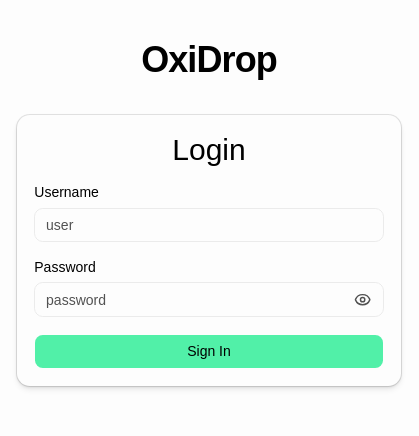
Test case: LoginForm › does not redirect when the new session cannot be verified
Type "admin" into the field labelled "Username" at (209, 225), box [34, 208, 384, 242]
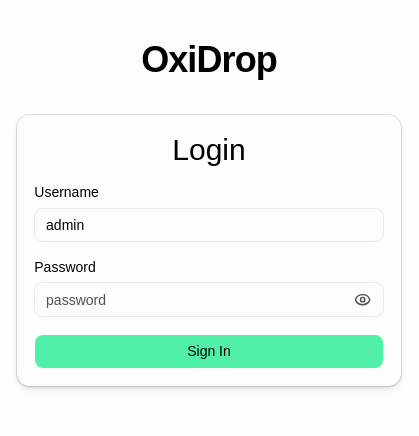
Type "correct-password" into the password field labelled "Password" at (209, 300), box [34, 282, 384, 317]
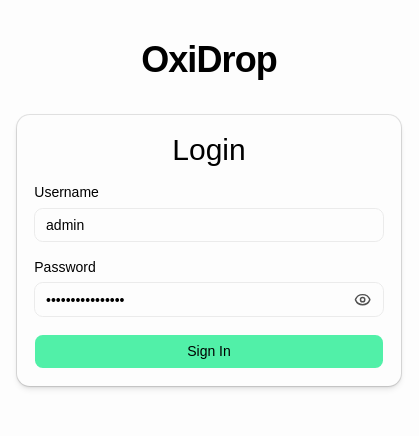
Click the button "Sign In" at (209, 351), box [34, 334, 384, 369]
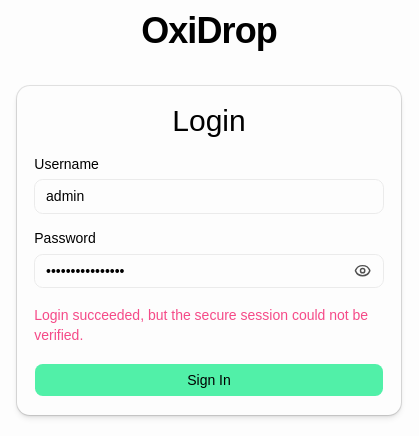
Result: the message reads "Login succeeded, but the secure session could not be verified." at [34, 307, 368, 343]
